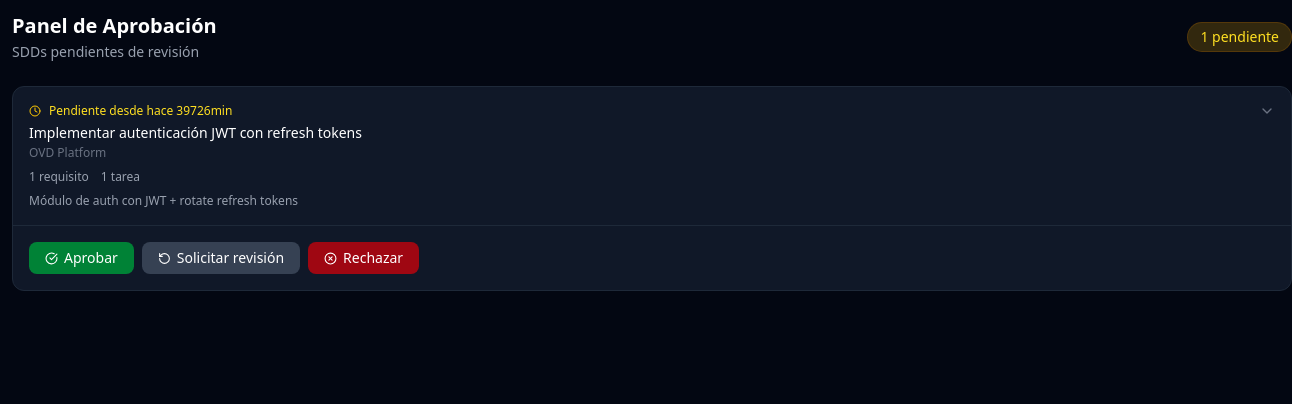
it: Approval — flujo de revisión › muestra textarea al hacer click en Solicitar revisión
Click the button "Solicitar revisión" at (221,258), box [142,242,300,274]
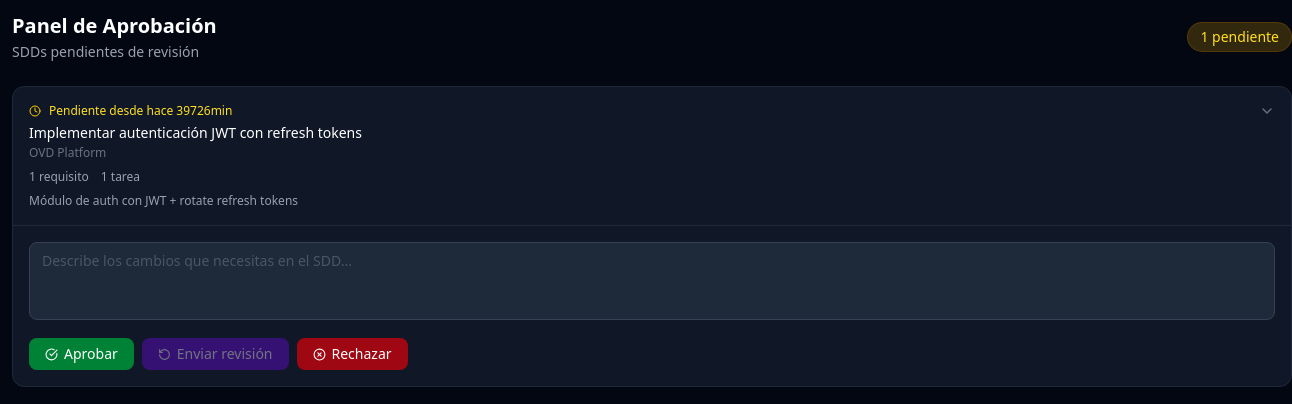
Result: the text box with placeholder "Describe los cambios que necesitas en el SDD..." is shown at [29,242,1275,320]
